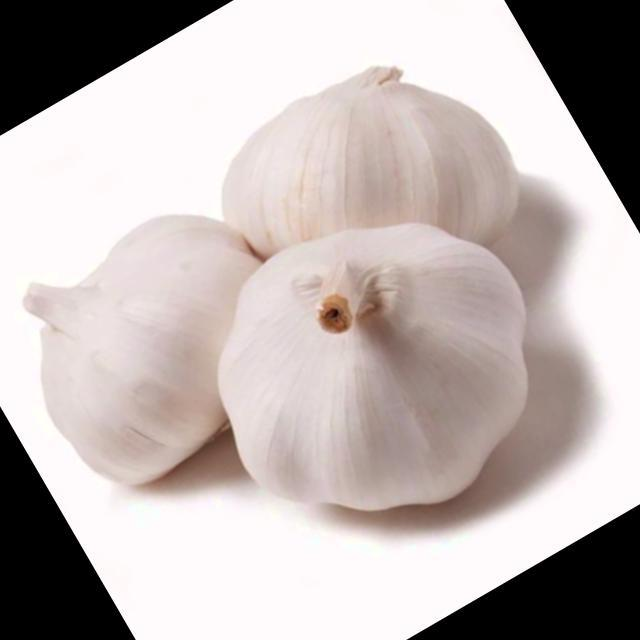garlic: (219, 224, 528, 510), (24, 215, 261, 484), (222, 66, 518, 258)
